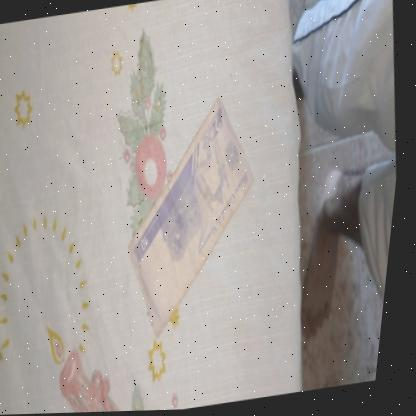vef_back: (107, 90, 282, 343)
